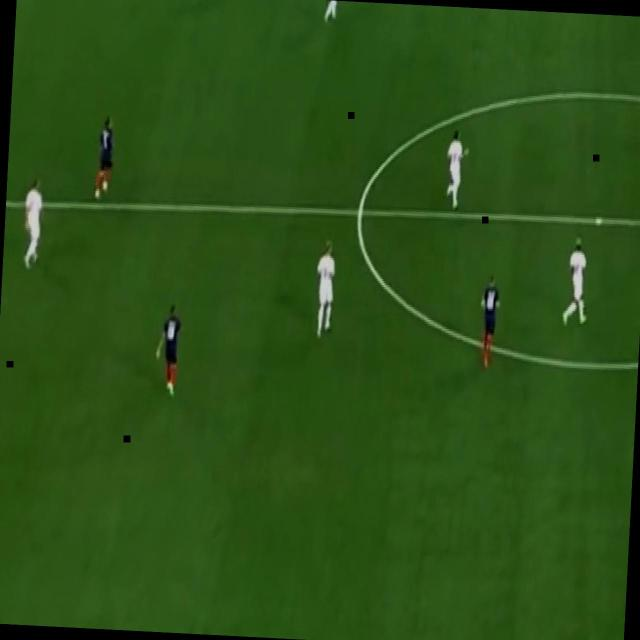player-white: (152, 299, 186, 404), (559, 233, 593, 331), (18, 172, 48, 280), (311, 237, 339, 346), (476, 271, 504, 375), (440, 129, 472, 213), (90, 112, 118, 208), (322, 0, 346, 27)
